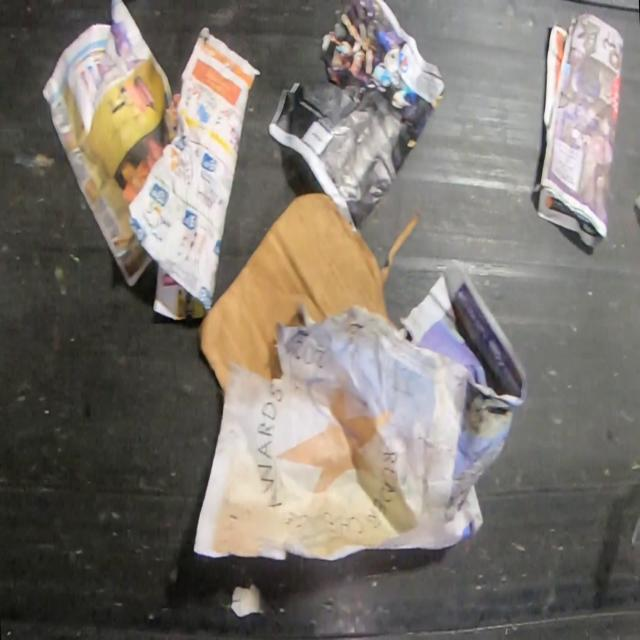cardboard: (199, 192, 421, 397)
